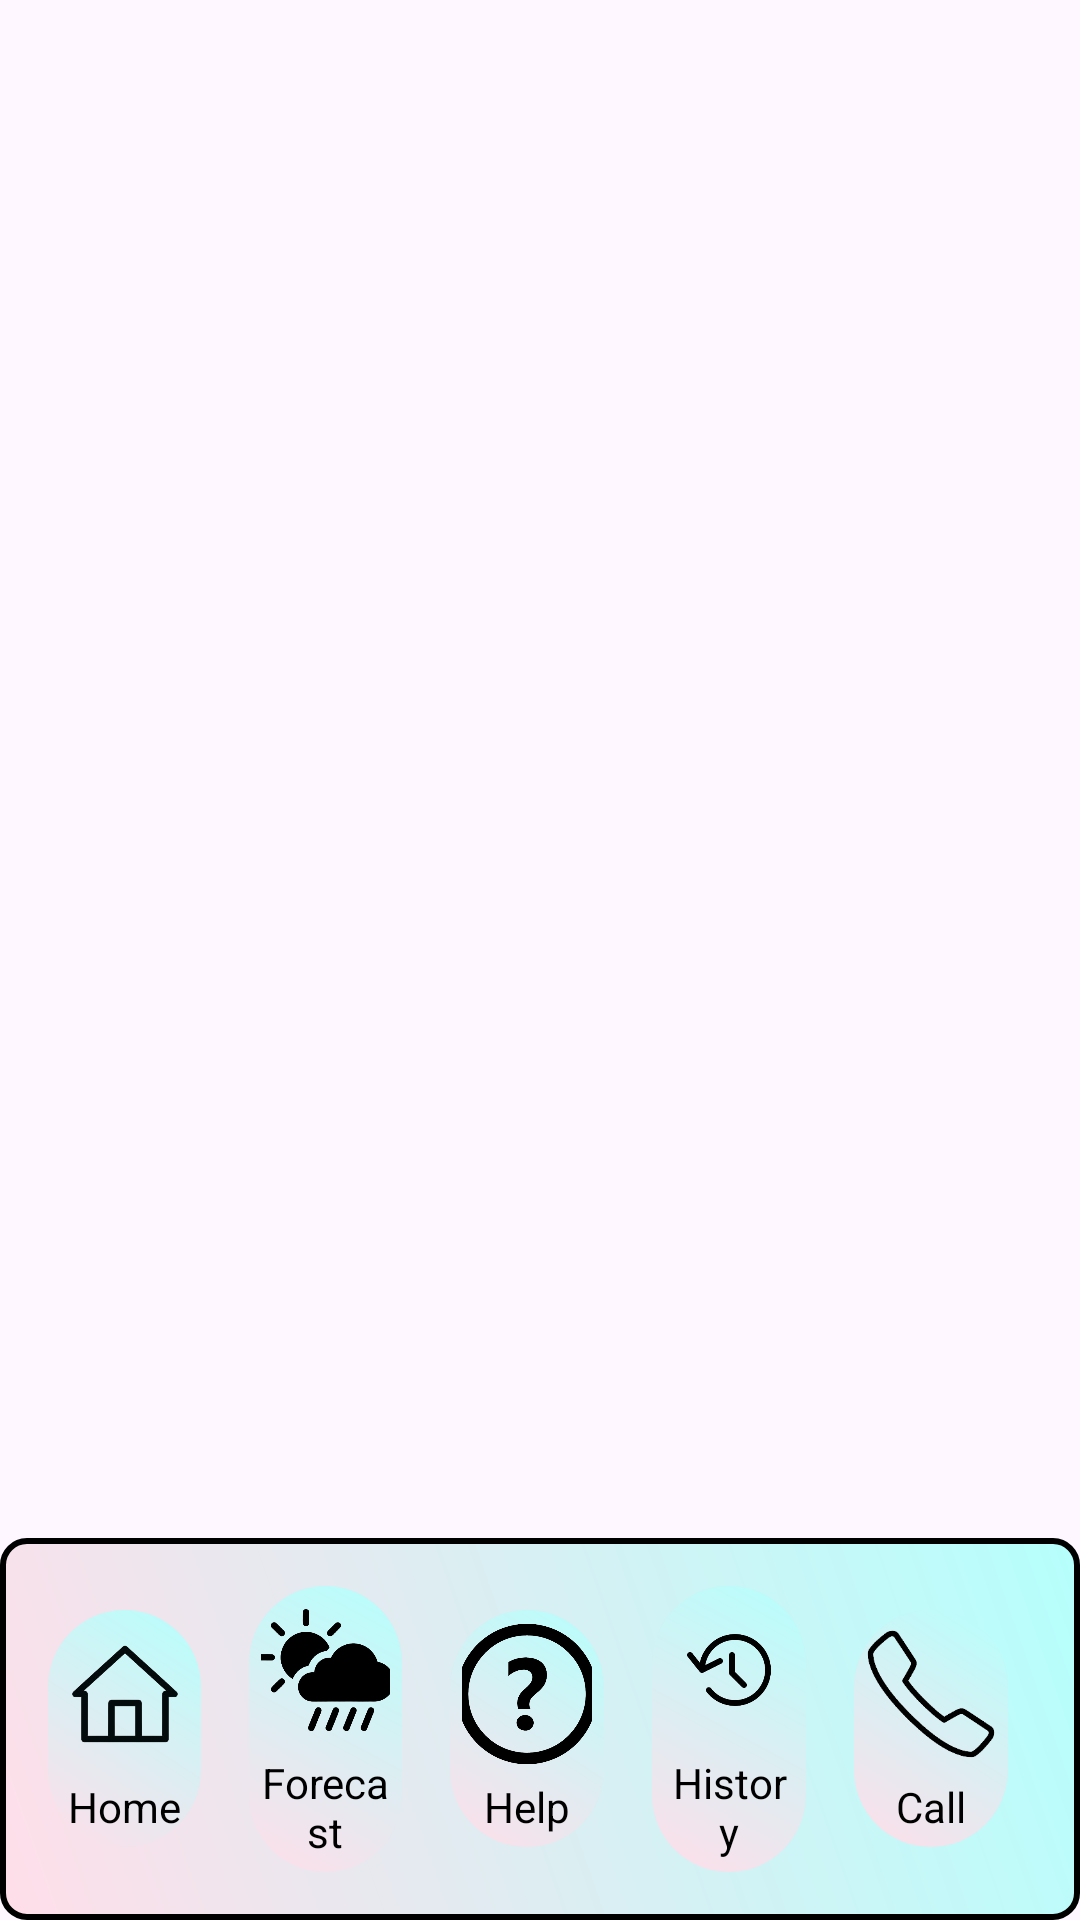

Point at icon controls on the screen. Image size 1080w x 1920h, points as (x=x, y=y).
Emergency Contacts: (x=931, y=1694)
